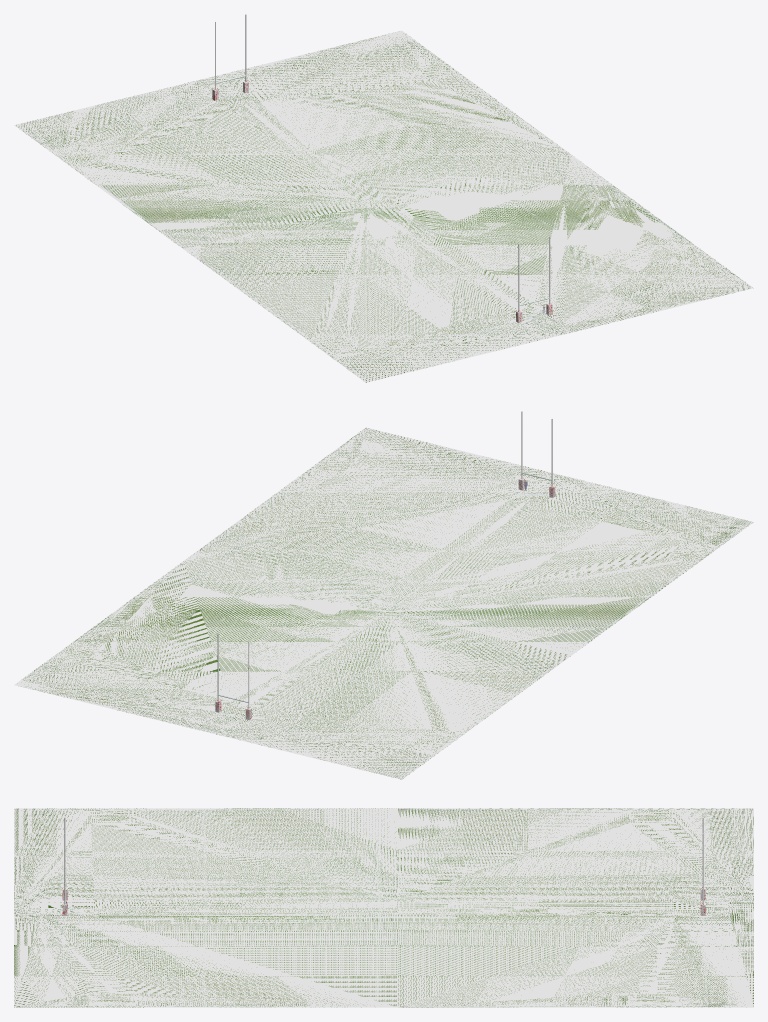
Rendered from rugfield.fbx.
The picture shows the model from 3 angles, top to bottom: view 1: azimuth 30°, elevation 25°; view 2: azimuth 150°, elevation 25°; view 3: azimuth 270°, elevation 25°; orthographic projection. The views are drawn at different scales.
Visible parts, largest first — view 1: Model; view 2: Model; view 3: Model.
Boxes of the visible parts, x1,y1,x2,y2 form: Model: (14,30,753,382); Model: (14,427,753,779); Model: (14,808,753,1007).
Bounding box in the file's own units: 70 × 13.41 × 110.
